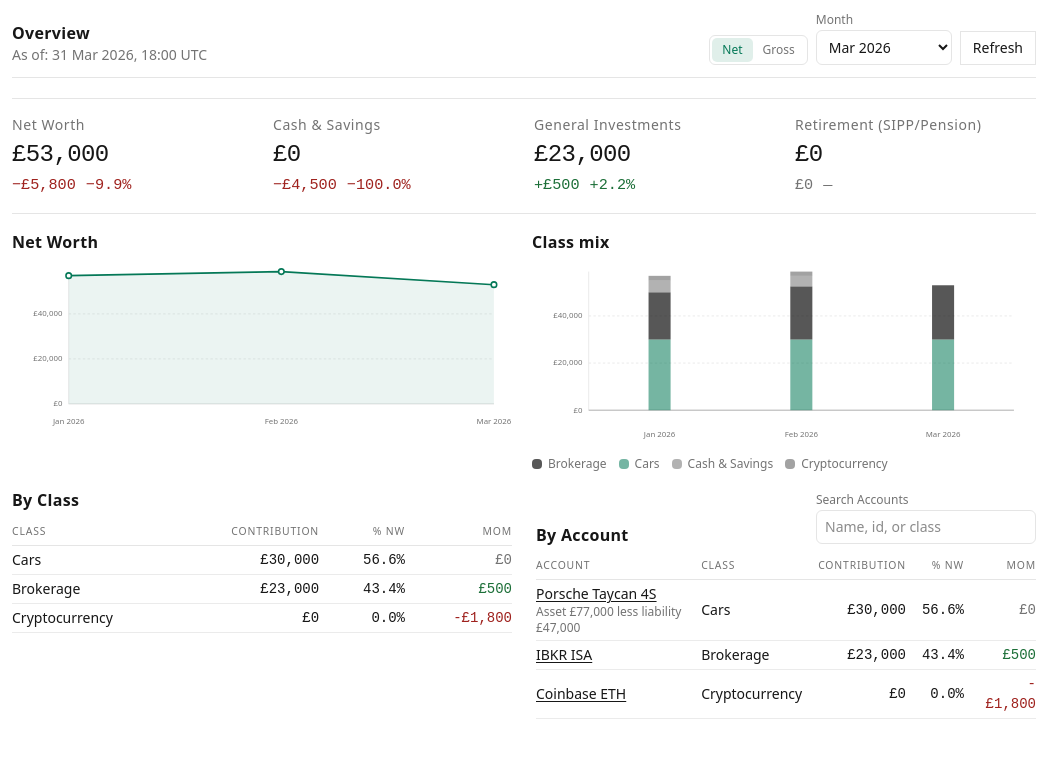
WmwOverview › keeps last-good Snapshot and shows error when Refresh cannot reach Sheets
Expected: the link "Porsche Taycan 4S" is shown, x1=536 y1=584 x2=657 y2=603
Click the button "Refresh".
click(998, 48)  # box x1=960 y1=31 x2=1036 y2=65
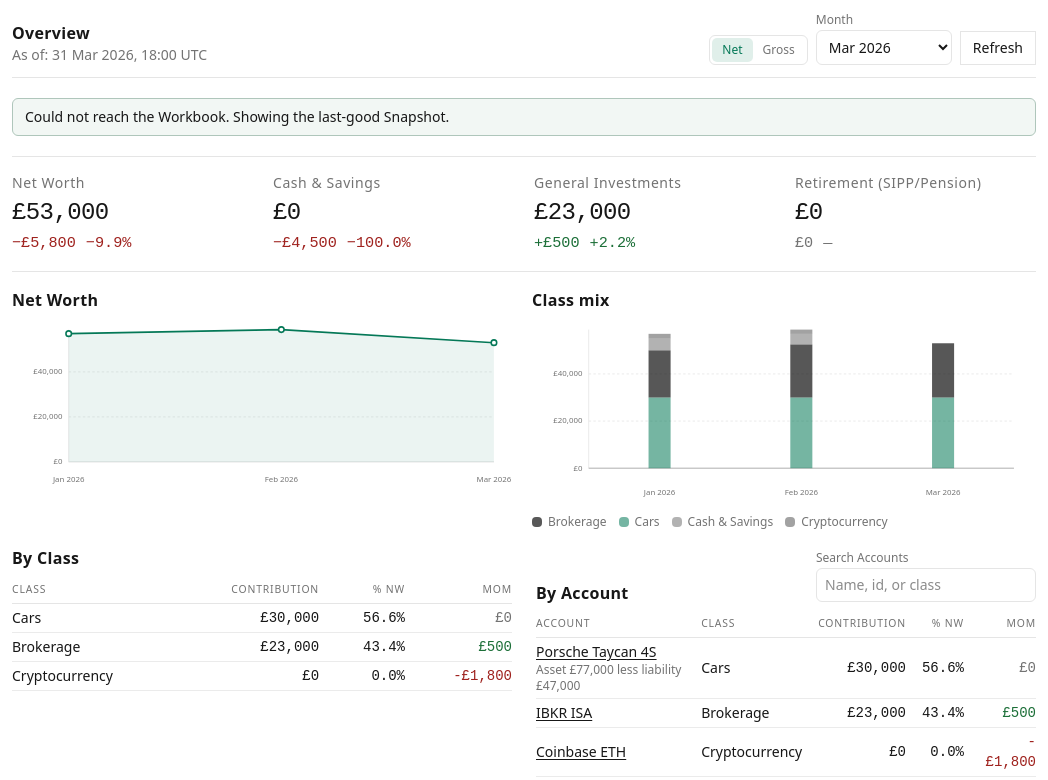
Expected: the link "Porsche Taycan 4S" is shown, x1=536 y1=642 x2=657 y2=661
Now the message reads "Could not reach the Workbook. Showing the last-good Snapshot.", box x1=25 y1=107 x2=449 y2=126
